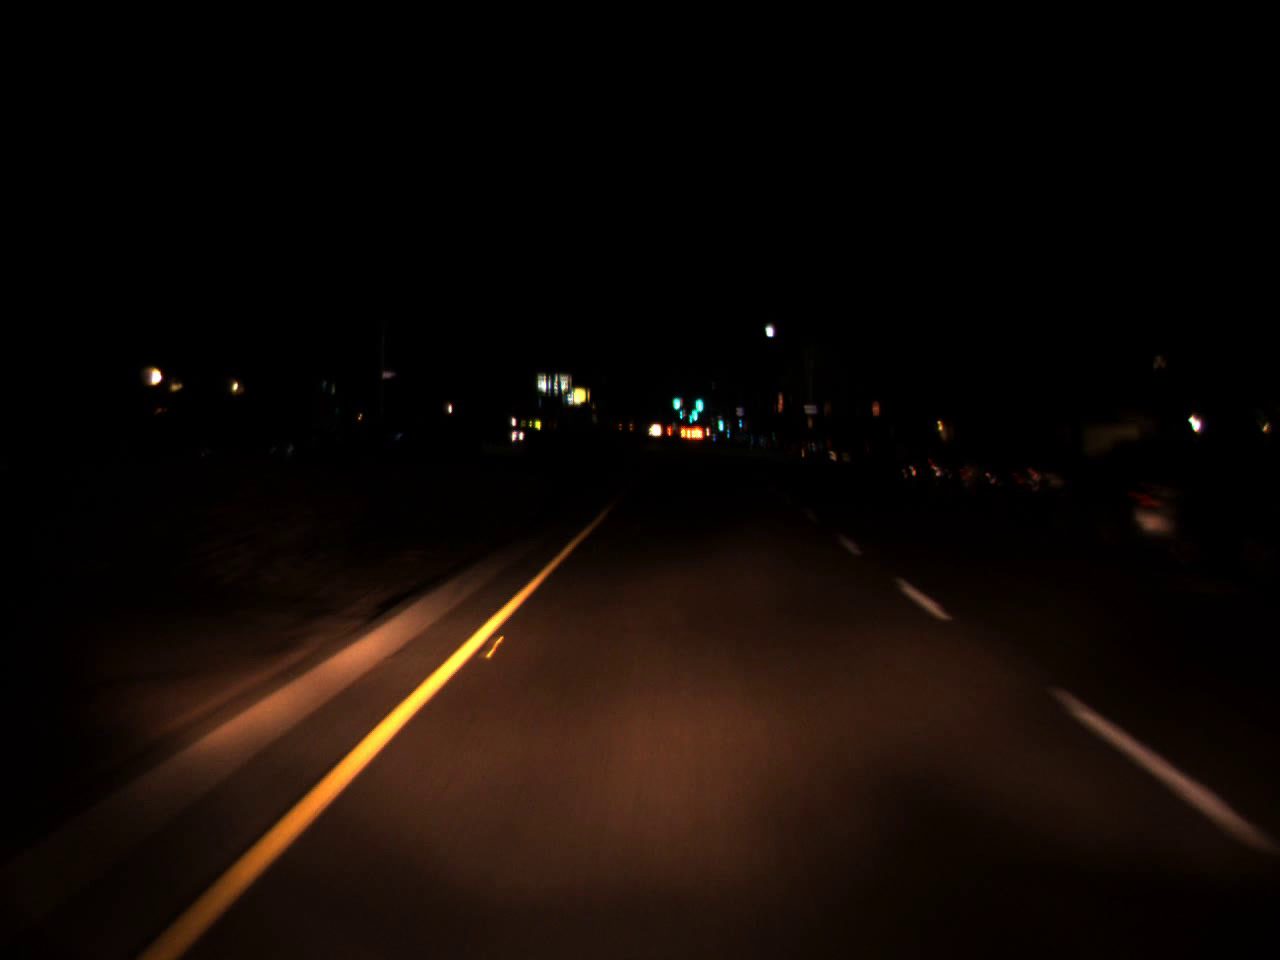go: (694, 388, 703, 415), (671, 387, 681, 411), (691, 398, 698, 425), (717, 409, 724, 430)
